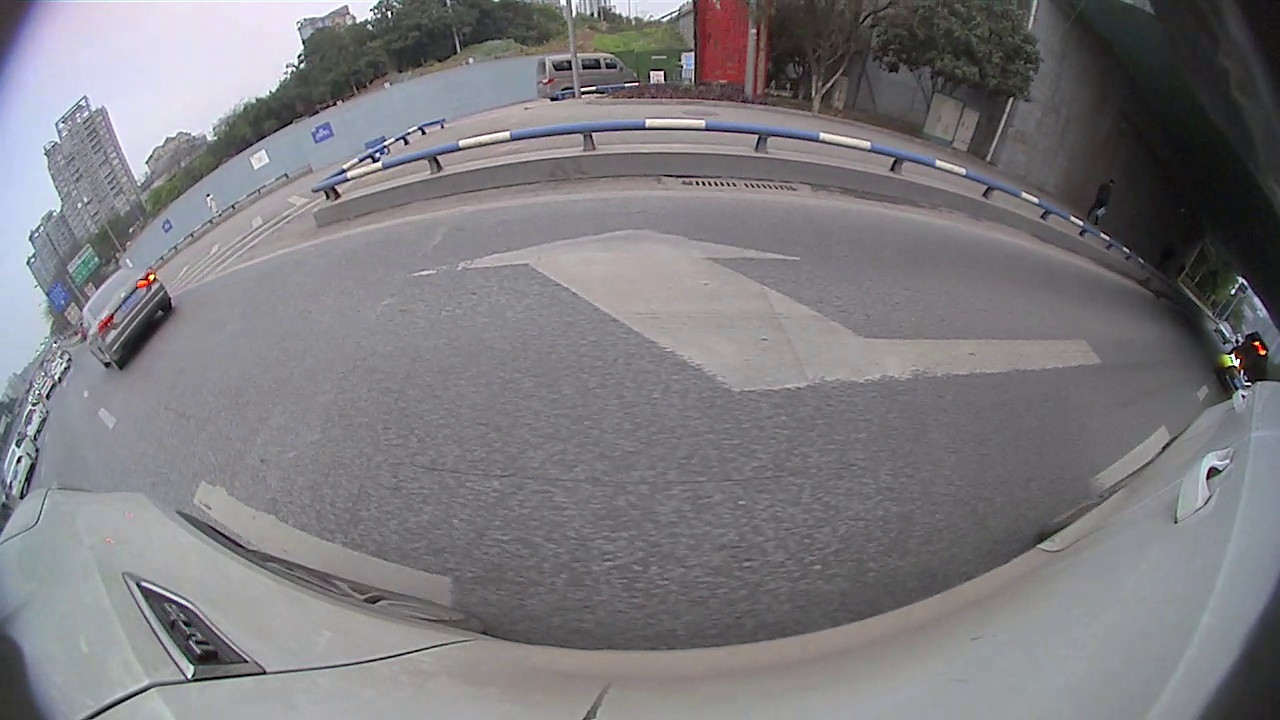car: (81, 266, 173, 371), (536, 52, 640, 101), (1215, 345, 1268, 397), (2, 436, 39, 500), (21, 401, 50, 442)
person: (1099, 180, 1115, 225), (206, 193, 215, 216)
rear: (98, 346, 125, 374), (158, 295, 177, 315)
